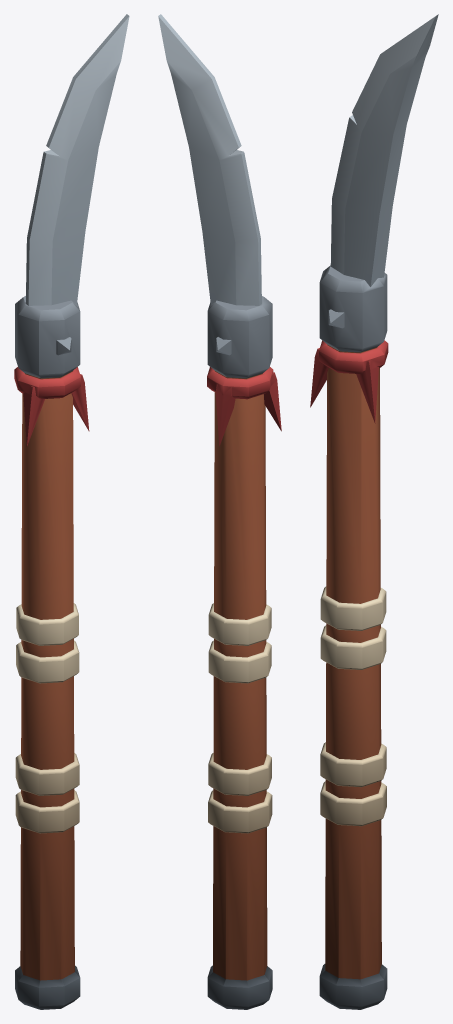
The model's file is scythe_iron.glb.
3 renders of one model, left to right at view 1: azimuth 30°, elevation 25°; view 2: azimuth 150°, elevation 25°; view 3: azimuth 330°, elevation 25°, orthographic. The views are drawn at different scales.
Parts seen in each view (by area): view 1: Item; view 2: Item; view 3: Item.
Boxes of the visible parts, bbox=[...] form: Item: bbox=[14, 14, 129, 1009]; Item: bbox=[158, 14, 281, 1009]; Item: bbox=[310, 14, 438, 1009].
Bounding box in the file's own units: 0.3748 × 3.09 × 0.258.
Materials: 2 (2 with a texture image).
